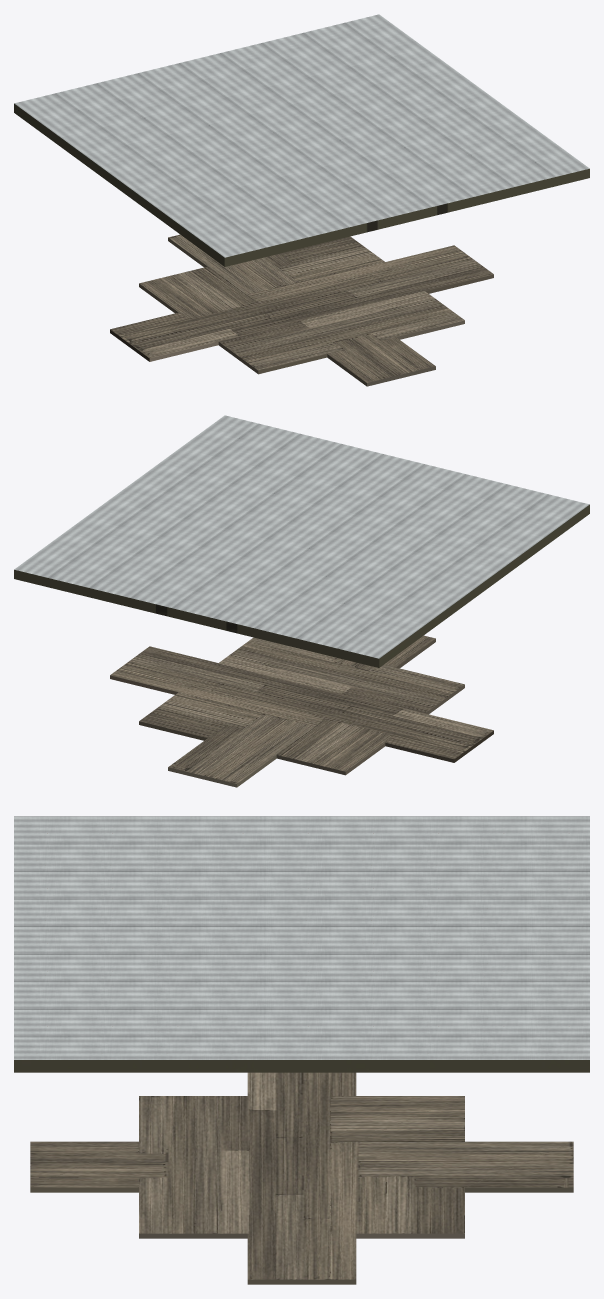
The model's file is shelter.glb.
3 renders of one model, top to bottom at view 1: azimuth 30°, elevation 25°; view 2: azimuth 150°, elevation 25°; view 3: azimuth 270°, elevation 25°, orthographic. The views are drawn at different scales.
Visible parts, largest first — view 1: shelterShell; view 2: shelterShell; view 3: shelterShell.
Part boxes in pixels (box(x1,y1,x2,y2)): shelterShell: box(14, 14, 589, 386); shelterShell: box(14, 415, 589, 787); shelterShell: box(14, 816, 589, 1284).
Bounding box in the file's own units: 7.95 × 3.53 × 7.95.
2 materials, 2 textured.
